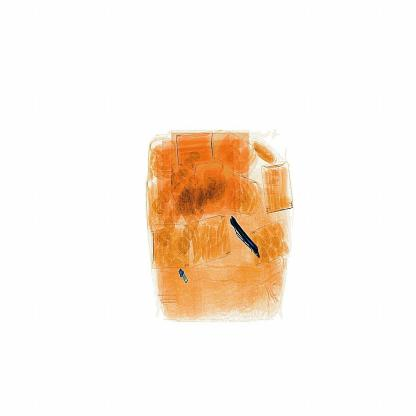knife: (230, 210, 258, 257)
